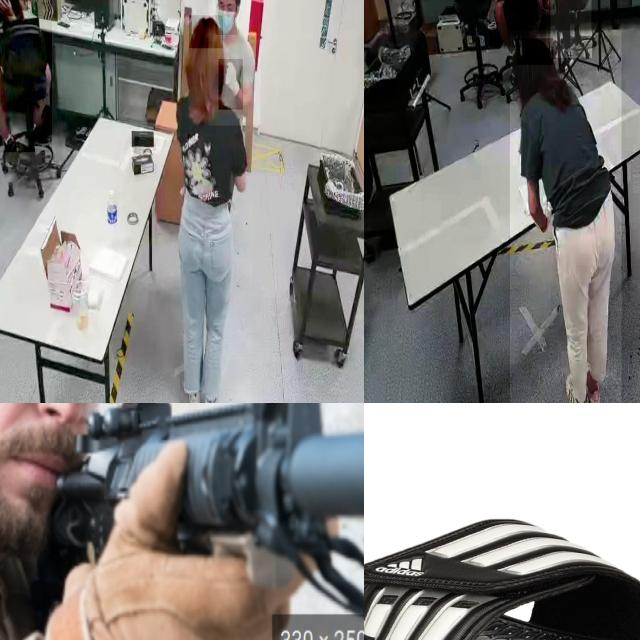Ear-protection: (0, 403, 155, 561)
Sandals: (364, 516, 640, 640)
face_mask: (215, 0, 236, 34)
hand_glove: (219, 59, 243, 109)
hand_noglove: (0, 0, 14, 17)
head_nohelmet: (189, 15, 223, 49), (516, 38, 554, 66)
person: (510, 30, 622, 403), (160, 0, 252, 403), (0, 0, 52, 153), (208, 0, 261, 125), (489, 0, 546, 47), (550, 0, 591, 57)
shoes: (580, 358, 603, 403), (563, 369, 592, 403), (184, 379, 202, 403), (200, 388, 220, 403)
